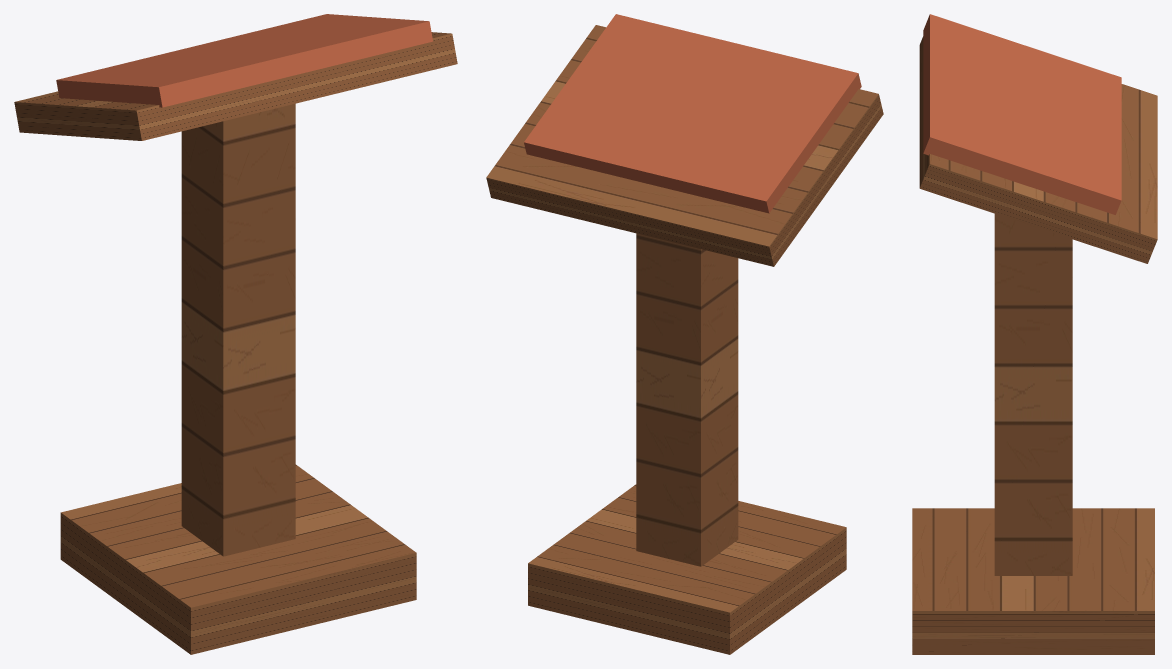
The model's file is lectern.glb.
3 renders of one model, left to right at view 1: azimuth 30°, elevation 25°; view 2: azimuth 150°, elevation 25°; view 3: azimuth 270°, elevation 25°, orthographic. The views are drawn at different scales.
Parts seen in each view (by area): view 1: lectern; view 2: lectern; view 3: lectern.
Part boxes in pixels (box(x1,y1,x2,y2)): lectern: box(14, 14, 457, 654); lectern: box(486, 14, 883, 654); lectern: box(912, 14, 1157, 654).
Size of the model in its own units: 0.7 by 1.2 by 0.5054.
Materials: 1 (1 with a texture image).
